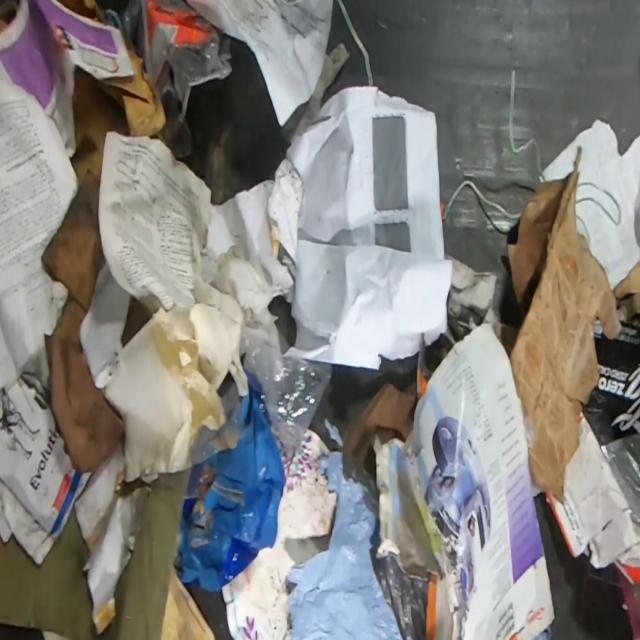cardboard: (506, 145, 624, 500), (1, 468, 192, 639), (40, 166, 125, 473), (70, 49, 168, 188)
rigid_plastic: (118, 1, 234, 156)
soft_plastic: (286, 418, 429, 639), (175, 370, 286, 594), (244, 328, 334, 484)
